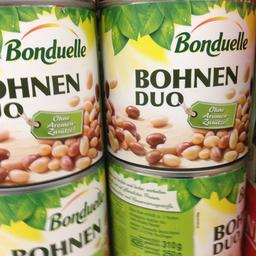beans: (100, 0, 254, 170), (0, 1, 95, 183)
